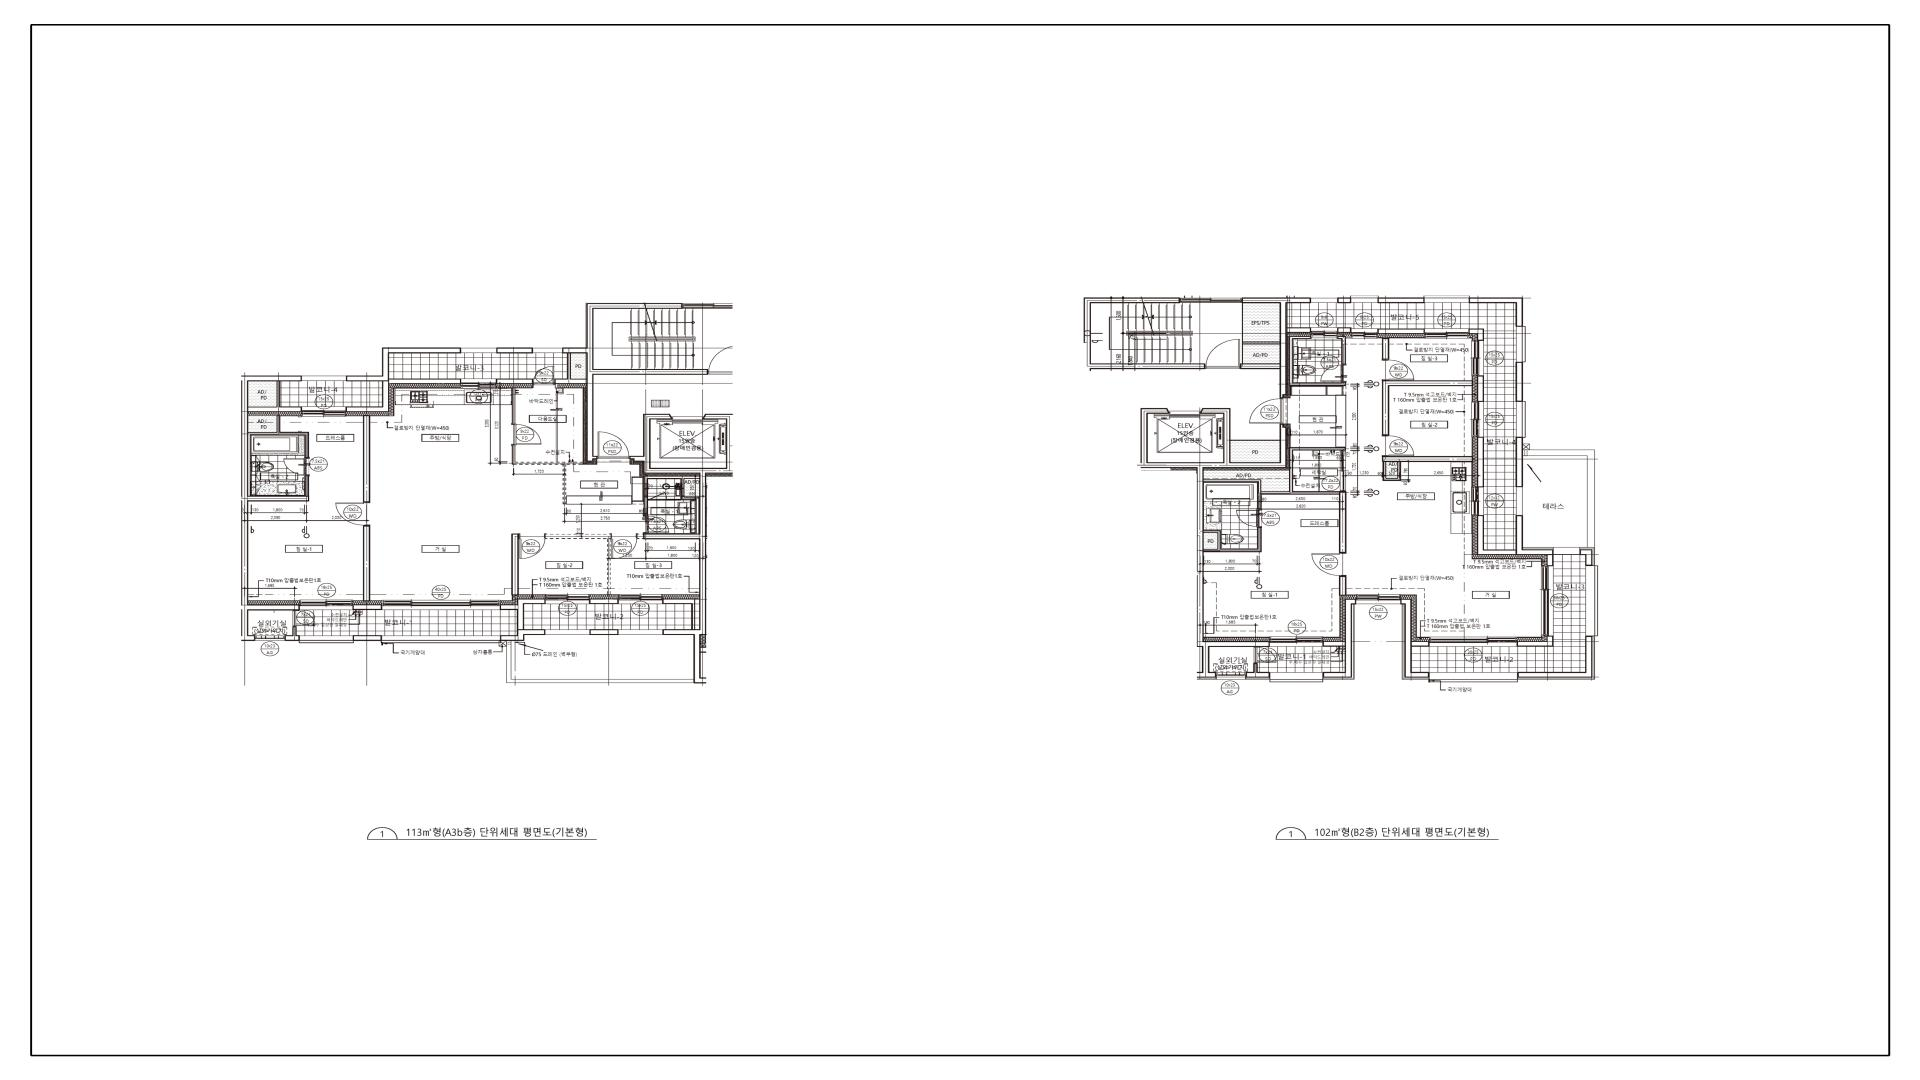door: (1205, 339, 1241, 369), (1249, 398, 1287, 423), (597, 431, 629, 459), (335, 502, 371, 526), (1312, 553, 1346, 576), (708, 345, 733, 375), (1382, 434, 1414, 456), (1382, 359, 1414, 381), (518, 534, 546, 559), (512, 423, 542, 446), (611, 534, 637, 559), (1236, 509, 1262, 527), (1320, 364, 1346, 382), (284, 458, 310, 476), (533, 365, 555, 385), (644, 516, 669, 533), (293, 611, 315, 626), (650, 492, 667, 501)
wall: (1141, 407, 1287, 678), (629, 414, 733, 636), (563, 303, 708, 462), (241, 376, 309, 641), (1204, 447, 1346, 553), (1084, 298, 1205, 369), (1241, 298, 1311, 398), (1382, 380, 1473, 435), (248, 415, 309, 496), (512, 446, 584, 504), (345, 378, 460, 413), (546, 534, 611, 595), (633, 476, 699, 534), (345, 348, 462, 381), (1518, 636, 1593, 678), (1290, 336, 1346, 386), (1323, 599, 1356, 678), (1400, 599, 1429, 678), (1382, 456, 1473, 481), (1242, 303, 1279, 364), (248, 381, 302, 413), (1469, 298, 1523, 327), (1477, 516, 1515, 555), (1515, 516, 1553, 555), (1204, 527, 1262, 553), (501, 599, 545, 629), (663, 599, 699, 629), (555, 353, 587, 384), (363, 415, 371, 502), (363, 526, 371, 601), (501, 629, 546, 641), (512, 534, 518, 596), (1515, 438, 1523, 487), (1518, 637, 1553, 647), (1246, 663, 1270, 678), (1477, 438, 1484, 487), (1515, 363, 1523, 402), (1337, 336, 1346, 364), (1378, 328, 1424, 334), (1378, 298, 1424, 303), (285, 626, 299, 641), (1580, 550, 1593, 566), (1386, 462, 1398, 479), (496, 378, 533, 384), (353, 604, 382, 611), (589, 629, 618, 636), (497, 348, 533, 353), (1469, 328, 1484, 340), (1382, 338, 1390, 359), (1477, 376, 1484, 401), (1338, 576, 1346, 596), (589, 599, 618, 604), (1323, 641, 1345, 647), (353, 636, 381, 641), (512, 388, 516, 423), (1287, 327, 1311, 332), (1412, 641, 1429, 647), (305, 476, 309, 496), (1337, 327, 1352, 332), (1337, 298, 1352, 303), (1547, 555, 1553, 566), (667, 498, 682, 501), (637, 534, 644, 539), (649, 498, 650, 501), (1230, 440, 1279, 440)
window: (381, 600, 501, 611), (381, 636, 501, 644), (1429, 673, 1518, 683), (1429, 637, 1518, 647), (1585, 566, 1598, 636), (1542, 566, 1553, 637), (299, 600, 353, 611), (1270, 637, 1324, 647), (1270, 673, 1323, 683), (302, 406, 347, 417), (1424, 328, 1469, 339), (1472, 401, 1484, 438), (299, 636, 353, 644), (1472, 340, 1484, 376), (1356, 595, 1400, 604), (618, 595, 663, 604), (545, 595, 589, 604), (460, 378, 497, 389), (1424, 295, 1469, 303), (1472, 487, 1484, 516), (1516, 402, 1526, 438), (1516, 327, 1526, 363), (1180, 298, 1242, 303), (1311, 327, 1337, 339), (1352, 328, 1378, 339), (683, 303, 733, 309), (1340, 451, 1346, 491), (1216, 673, 1246, 680), (302, 376, 345, 381), (1350, 295, 1378, 303), (1553, 547, 1580, 555), (460, 348, 497, 353), (1516, 487, 1523, 516), (618, 630, 663, 634), (545, 630, 589, 634), (255, 636, 285, 641), (533, 348, 563, 353), (1311, 298, 1337, 303)
